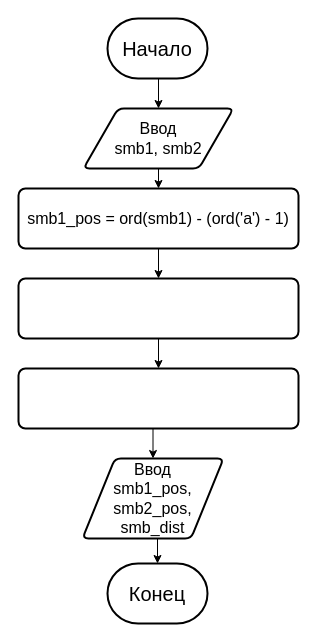
Image size: 316x641. Some labels were removed from this diagram. Here are the shapes that lost their labels. From the top down, the box of each, then its label:
(17, 277, 299, 339): smb2_pos = ord(smb2) - (ord('a') - 1)
(17, 367, 299, 429): smb_dist = ord(smb2) - ord(smb1) - 1
